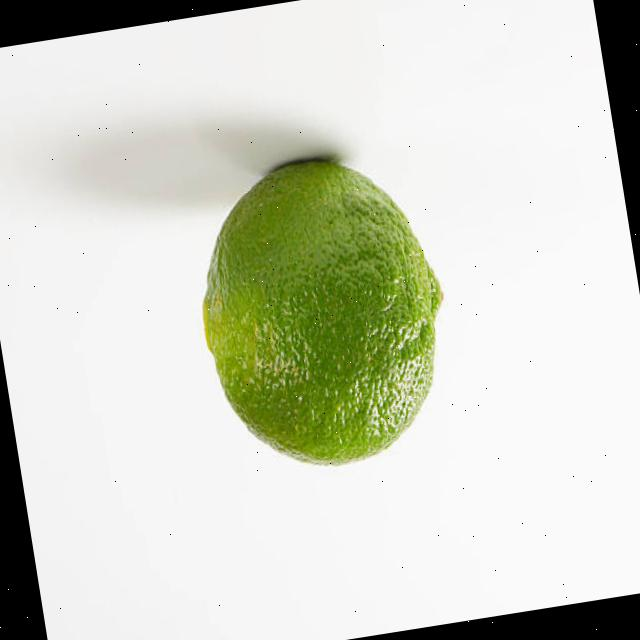Lemon: (178, 140, 469, 486)
